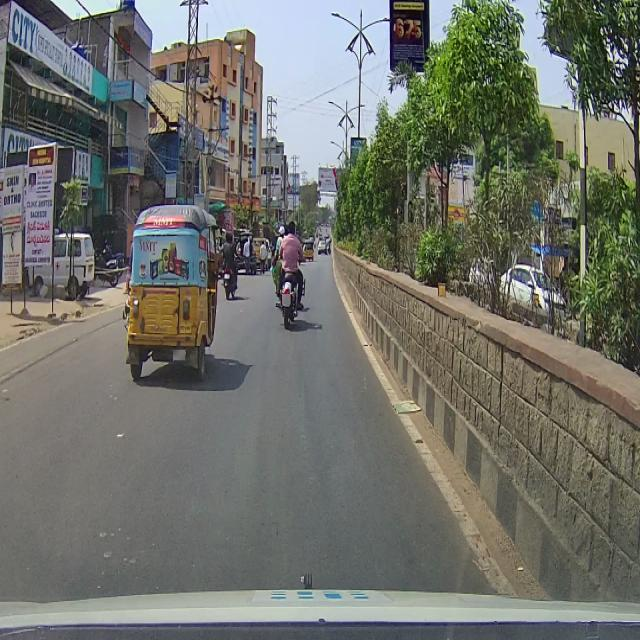auto ahead at: (123, 198, 219, 384)
barrier ahead at: (14, 138, 64, 329)
motorcycle ahead at: (264, 260, 308, 328)
